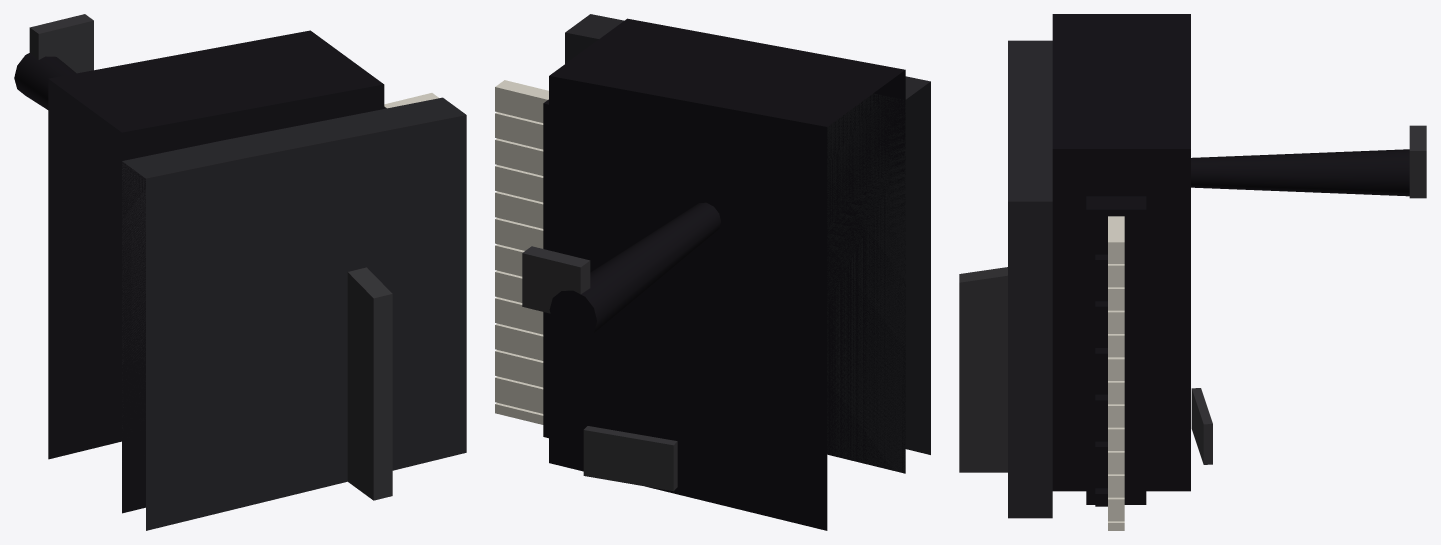
Rendered from section-6.obj.
The picture shows the model from 3 angles, left to right: view 1: azimuth 30°, elevation 25°; view 2: azimuth 150°, elevation 25°; view 3: azimuth 270°, elevation 25°; orthographic projection. The views are drawn at different scales.
Size of the model in its own units: 1.01 by 1.05 by 1.25.
Materials: 1 (1 with a texture image).
